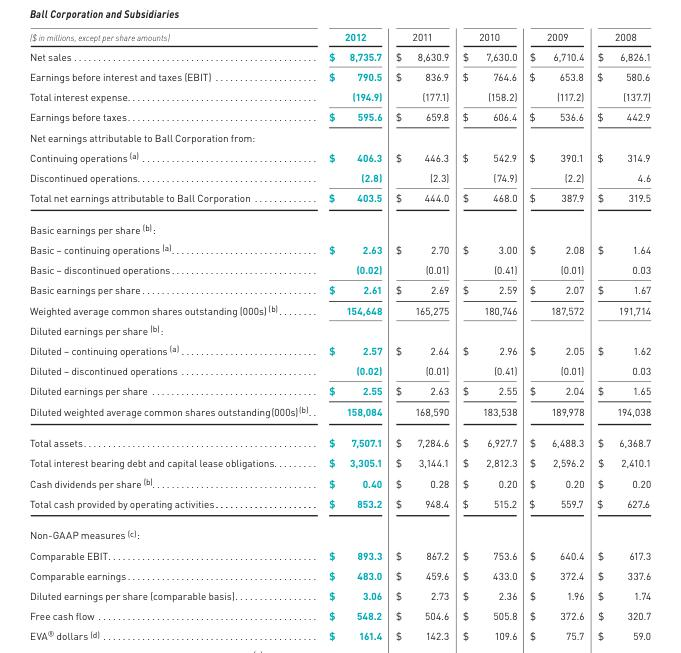table: (28, 29, 650, 621)
table column: (28, 29, 311, 621), (311, 29, 388, 621), (445, 29, 522, 621), (580, 29, 650, 621), (522, 29, 580, 621), (388, 29, 445, 621)
table column header: (28, 29, 650, 45)
table projected row header: (28, 212, 650, 238), (28, 518, 650, 544), (28, 126, 650, 146), (28, 319, 650, 339)
table row: (28, 212, 650, 238), (28, 400, 650, 426), (28, 426, 650, 452), (28, 492, 650, 518), (28, 518, 650, 544), (28, 187, 650, 212), (28, 65, 650, 86), (28, 166, 650, 187), (28, 238, 650, 259), (28, 339, 650, 360), (28, 584, 650, 605), (28, 45, 650, 65), (28, 86, 650, 106), (28, 106, 650, 126), (28, 126, 650, 146), (28, 146, 650, 166), (28, 259, 650, 279), (28, 279, 650, 299), (28, 299, 650, 319), (28, 319, 650, 339), (28, 360, 650, 380), (28, 380, 650, 400), (28, 452, 650, 472), (28, 472, 650, 492), (28, 544, 650, 564), (28, 564, 650, 584), (28, 29, 650, 45), (28, 605, 650, 621)
